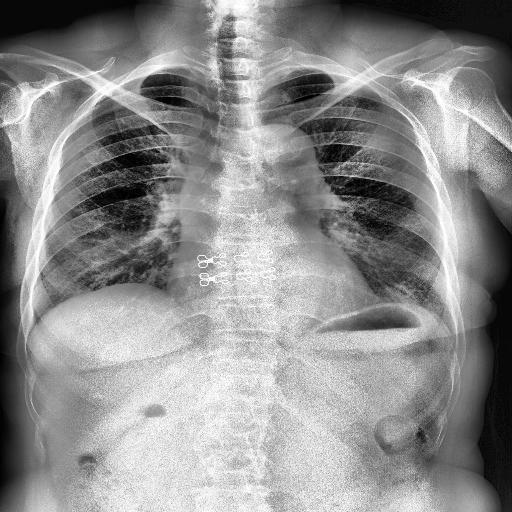0- Aortic enlargement: (244, 124, 324, 196), (245, 126, 316, 198), (249, 124, 316, 184)
